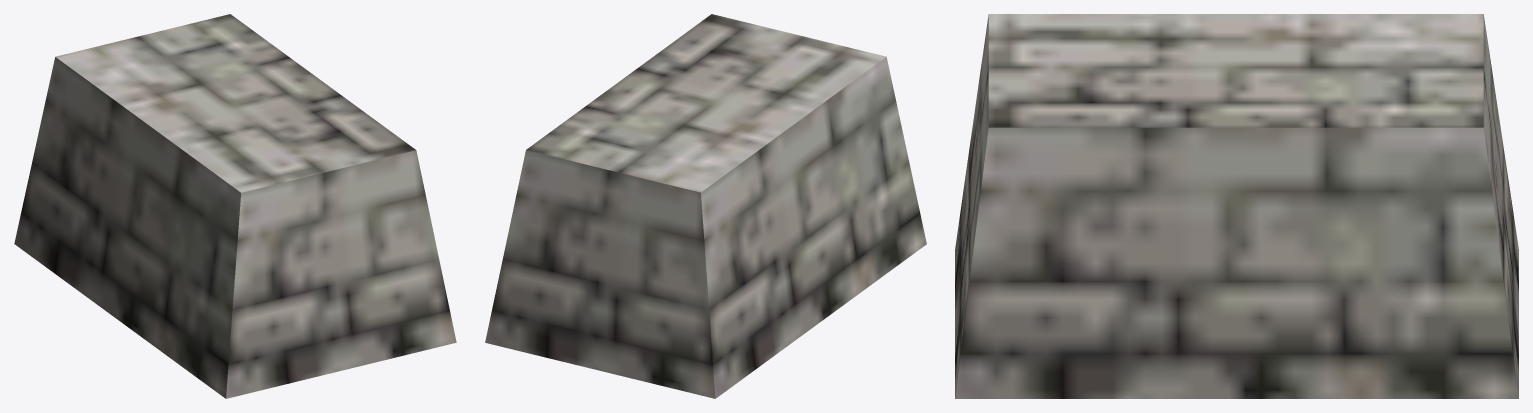
The model's file is building_construction_n_medium_brick.glb.
3 views of the same model, side by side, from view 1: azimuth 30°, elevation 25°; view 2: azimuth 150°, elevation 25°; view 3: azimuth 270°, elevation 25° (orthographic). The views are drawn at different scales.
Parts seen in each view (by area): view 1: MeshRoot; view 2: MeshRoot; view 3: MeshRoot.
Part boxes in pixels (x1,y1,x2,y2): MeshRoot: [14, 14, 456, 398]; MeshRoot: [485, 14, 926, 398]; MeshRoot: [955, 14, 1518, 398].
Size of the model in its own units: 0.8281 by 0.6523 by 1.32.
1 material, 1 textured.
